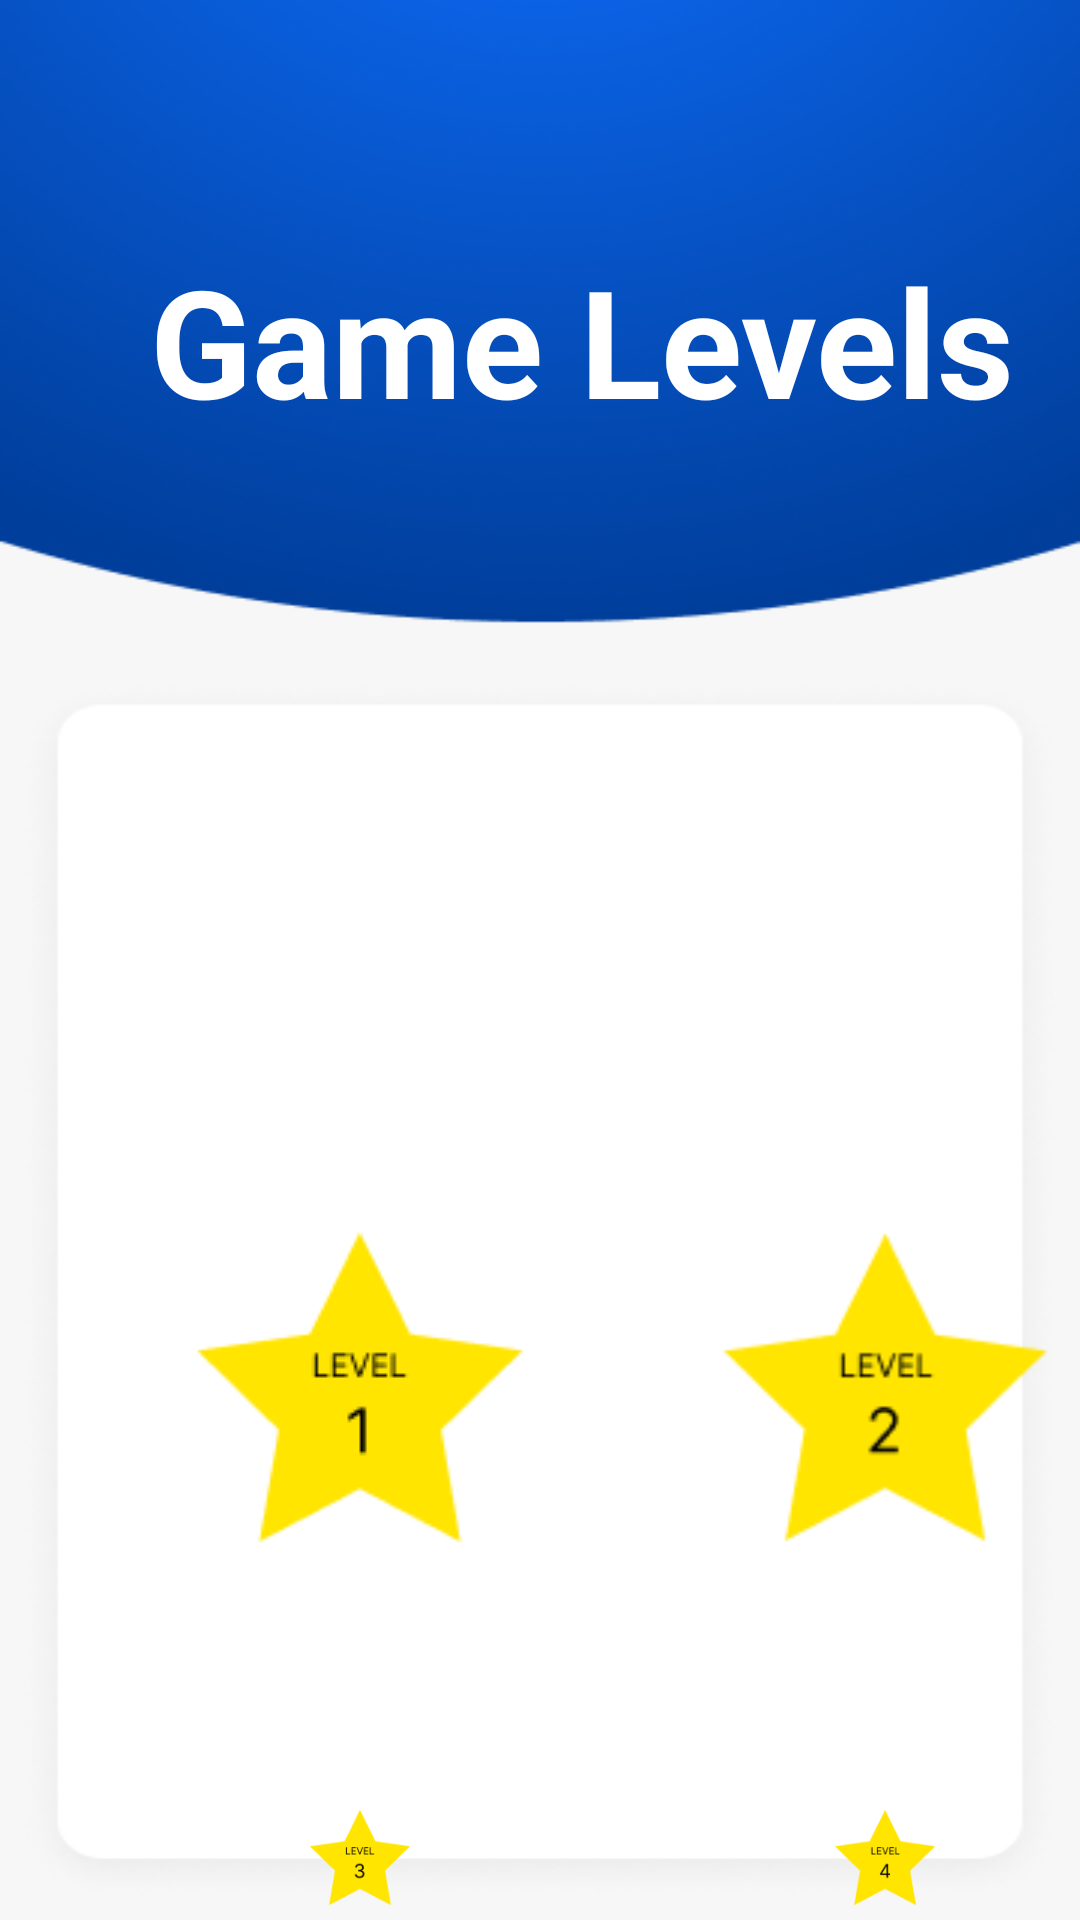

Screen size 1080px×1920px. Icon name, then its center in pixels as point (x, y):
star: point (360, 1387), point (885, 1387), point (360, 1858), point (885, 1858)
